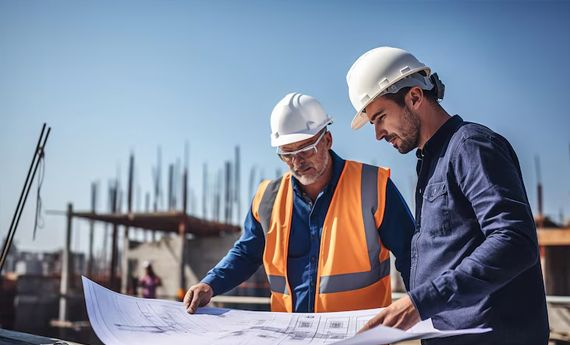hardhat: (345, 48, 442, 125), (257, 90, 335, 146)
no_safety_vest: (407, 142, 536, 327)
person: (331, 40, 551, 340), (185, 79, 401, 338)
safety_vest: (249, 163, 394, 309)
